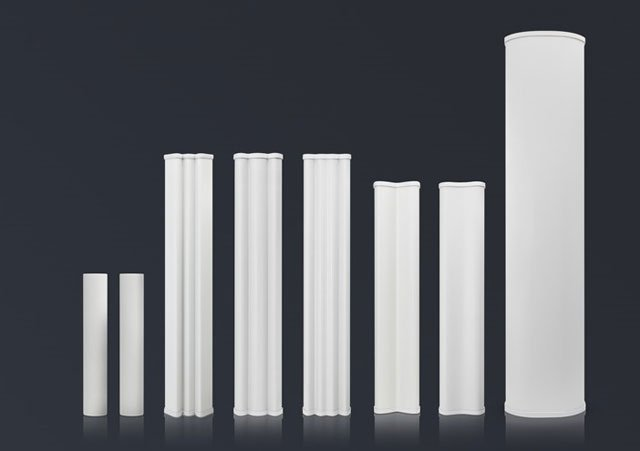sa: (490, 28, 596, 430), (152, 146, 220, 424), (362, 169, 428, 422), (67, 263, 115, 422)
